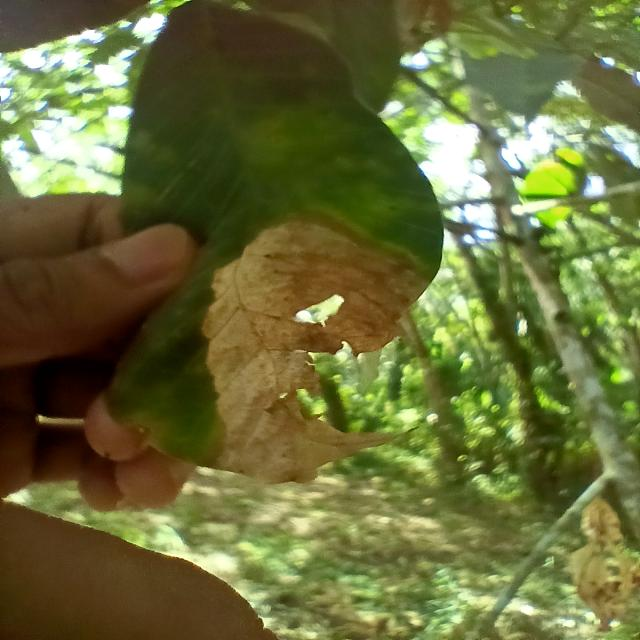Leaf-Blight: (202, 218, 434, 485)
